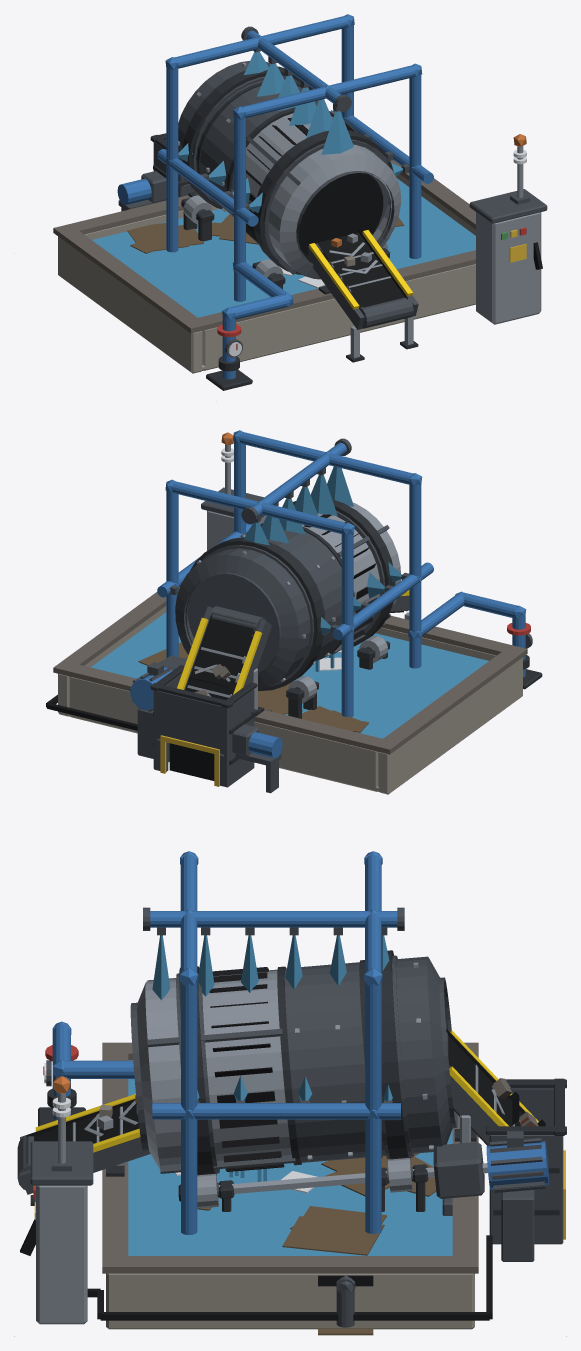
Rendered from station_lavage_t2.glb.
The picture shows the model from 3 angles, top to bottom: view 1: azimuth 30°, elevation 25°; view 2: azimuth 150°, elevation 25°; view 3: azimuth 270°, elevation 25°; orthographic projection. The views are drawn at different scales.
Visible parts, largest first — view 1: pieces_bleu.010, pieces_beton.004, bassin_eau.002, tambour_crible.002, pieces_pierre.009, armoire.008, tambour_sortie_fond.002, pieces_acier_sombre.015, tambour_debourbeur.002, pieces_noir.015, pieces_fonte.015, tambour_bandage_0.003 (+16 smaller); view 2: pieces_bleu.010, pieces_beton.004, bassin_eau.002, pieces_acier_sombre.015, tambour_debourbeur.002, pieces_pierre.009, pieces_noir.015, tambour_bandage_bord_1.002, pieces_fonte.015, tambour_crible.002, tambour_bandage_1.004, pieces_boue.002 (+11 smaller); view 3: pieces_bleu.010, tambour_debourbeur.002, bassin_eau.002, pieces_beton.004, pieces_acier_sombre.015, tambour_crible.002, pieces_pierre.009, pieces_noir.015, armoire.008, pieces_boue.002, pieces_fonte.015, tambour_noir.002 (+17 smaller).
Boxes of the visible parts, left/top/right/bottom form: pieces_bleu.010: left=117, top=14, right=433, bottom=379; pieces_beton.004: left=58, top=174, right=475, bottom=373; bassin_eau.002: left=92, top=178, right=475, bottom=317; tambour_crible.002: left=231, top=113, right=401, bottom=279; pieces_pierre.009: left=53, top=160, right=475, bottom=333; armoire.008: left=476, top=212, right=541, bottom=324; tambour_sortie_fond.002: left=298, top=173, right=383, bottom=259; pieces_acier_sombre.015: left=118, top=26, right=530, bottom=329; tambour_debourbeur.002: left=178, top=61, right=329, bottom=216; pieces_noir.015: left=317, top=230, right=542, bottom=307; pieces_fonte.015: left=150, top=133, right=418, bottom=390; tambour_bandage_0.003: left=253, top=130, right=393, bottom=274; pieces_bleu.010: left=130, top=430, right=526, bottom=758; pieces_beton.004: left=58, top=606, right=522, bottom=794; bassin_eau.002: left=91, top=612, right=488, bottom=738; pieces_acier_sombre.015: left=129, top=438, right=409, bottom=793; tambour_debourbeur.002: left=175, top=530, right=341, bottom=690; pieces_pierre.009: left=53, top=587, right=527, bottom=754; pieces_noir.015: left=46, top=611, right=403, bottom=780; tambour_bandage_bord_1.002: left=187, top=545, right=314, bottom=686; pieces_fonte.015: left=150, top=614, right=542, bottom=764; tambour_crible.002: left=301, top=502, right=401, bottom=634; tambour_bandage_1.004: left=190, top=537, right=323, bottom=691; pieces_boue.002: left=138, top=642, right=368, bottom=732; pieces_bleu.010: left=52, top=851, right=549, bottom=1234; tambour_debourbeur.002: left=284, top=956, right=452, bottom=1162; bassin_eau.002: left=128, top=1079, right=452, bottom=1255; pieces_beton.004: left=106, top=1060, right=474, bottom=1329; pieces_acier_sombre.015: left=17, top=907, right=563, bottom=1327; tambour_crible.002: left=137, top=971, right=291, bottom=1169; pieces_pierre.009: left=102, top=1042, right=478, bottom=1273; pieces_noir.015: left=20, top=1029, right=525, bottom=1320; armoire.008: left=36, top=1185, right=87, bottom=1324; pieces_boue.002: left=197, top=1153, right=436, bottom=1335; pieces_fonte.015: left=30, top=1078, right=566, bottom=1215; tambour_noir.002: left=209, top=967, right=284, bottom=1171.
Size of the model in its own units: 1.5 by 0.9315 by 1.5.
